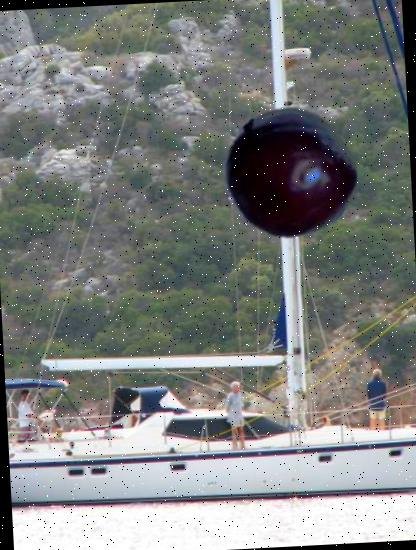Plum: (220, 103, 362, 244)
